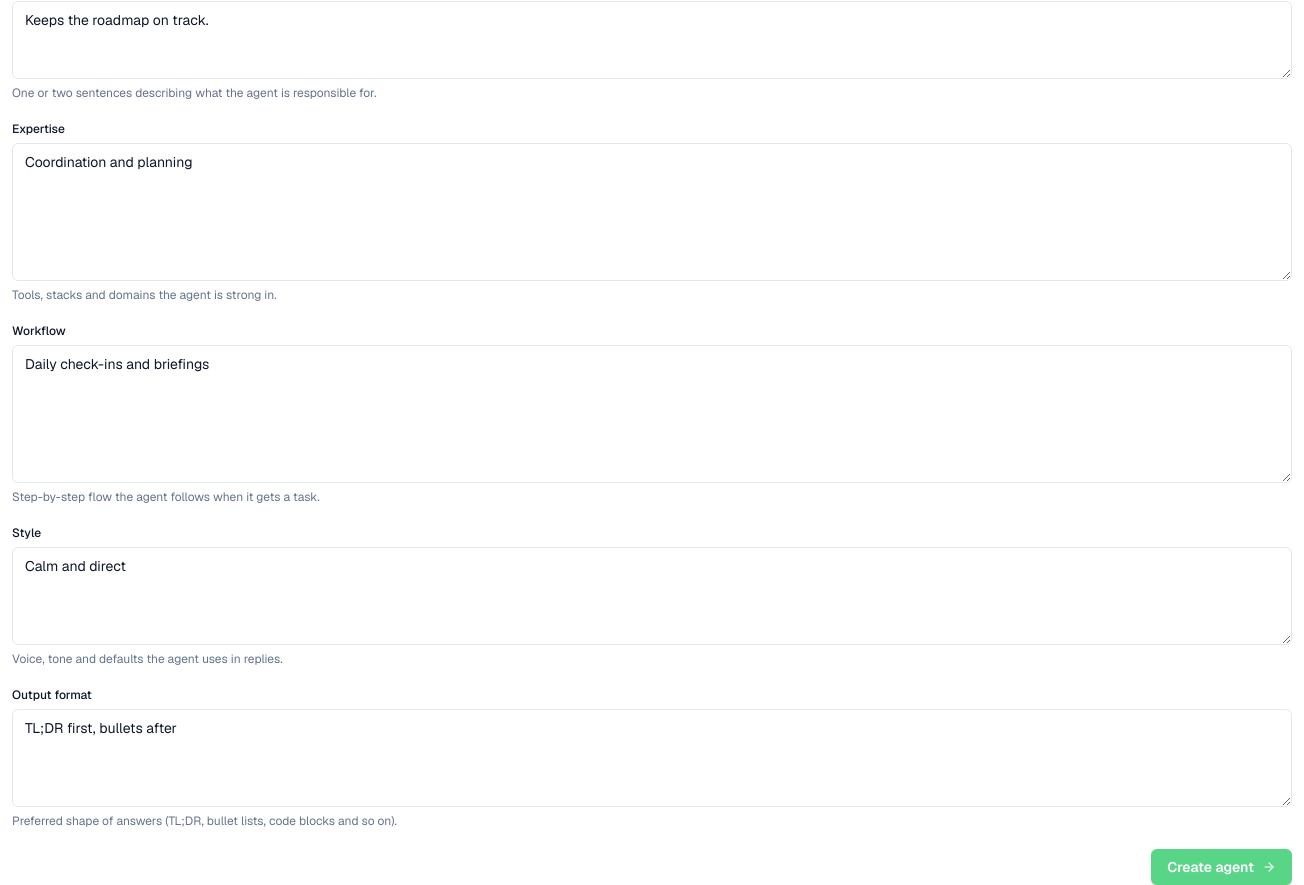
Scenario: AgentForm › should show a slug format error when slug contains uppercase or spaces
(page scrolled)
Click the button "Create agent".
click(1222, 867)  # box [1151, 849, 1292, 884]
(page scrolled)
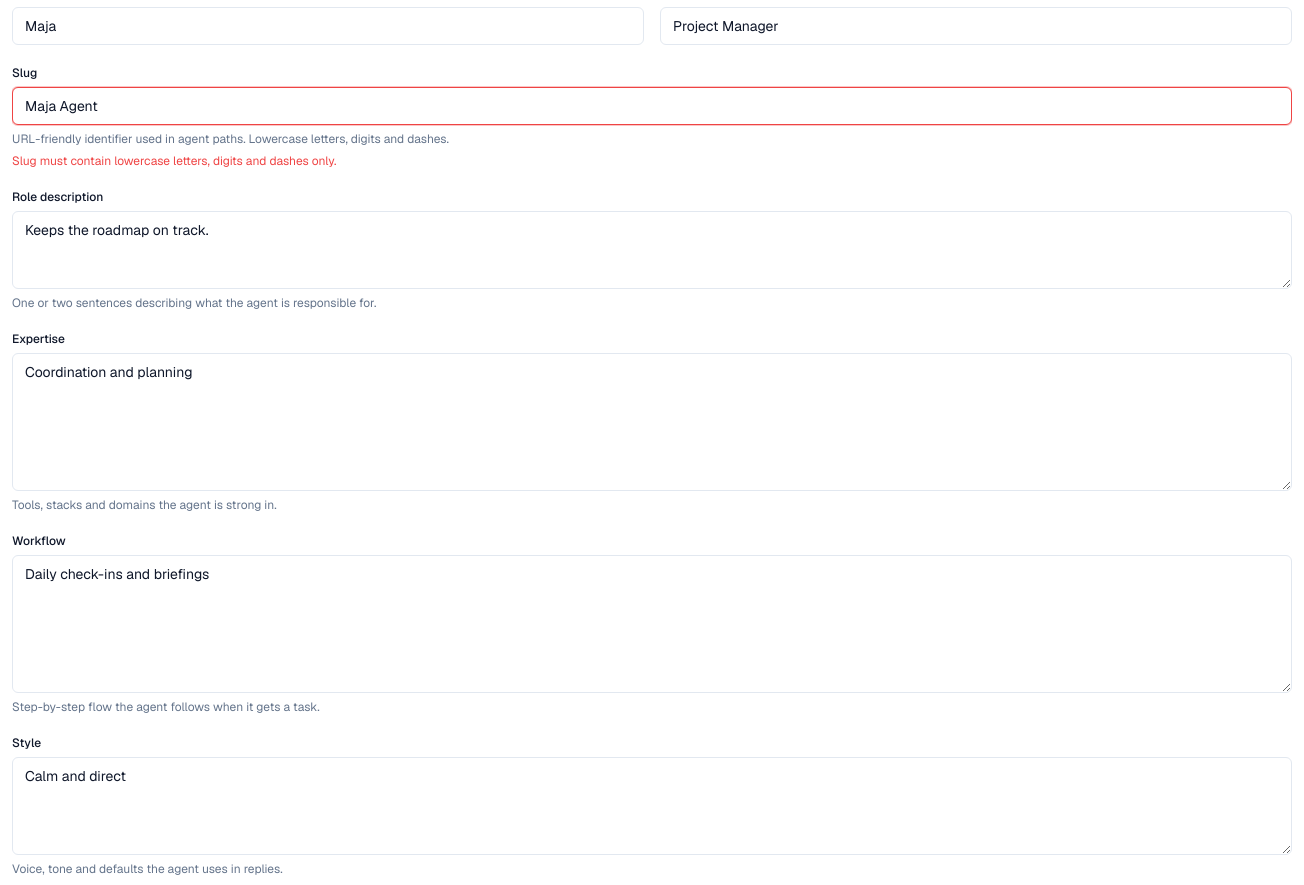
Expected: the text "Slug must contain lowercase letters, digits and dashes only." is shown, [12, 153, 336, 169]
